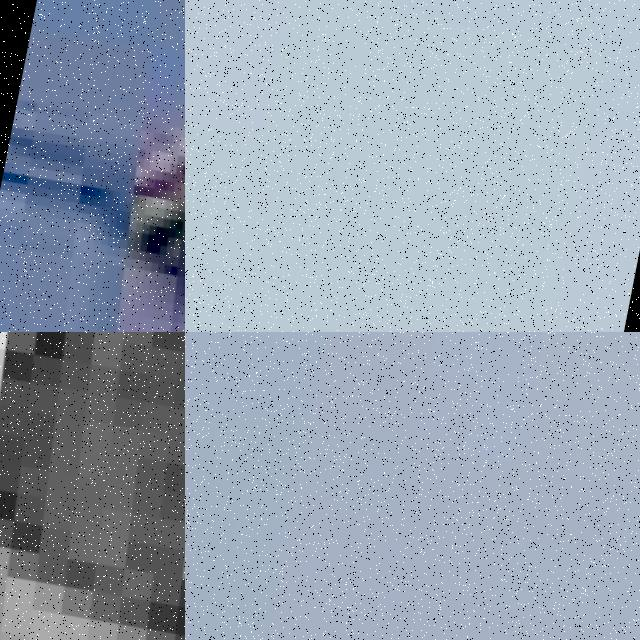drone: (0, 0, 185, 332), (0, 332, 185, 640)
